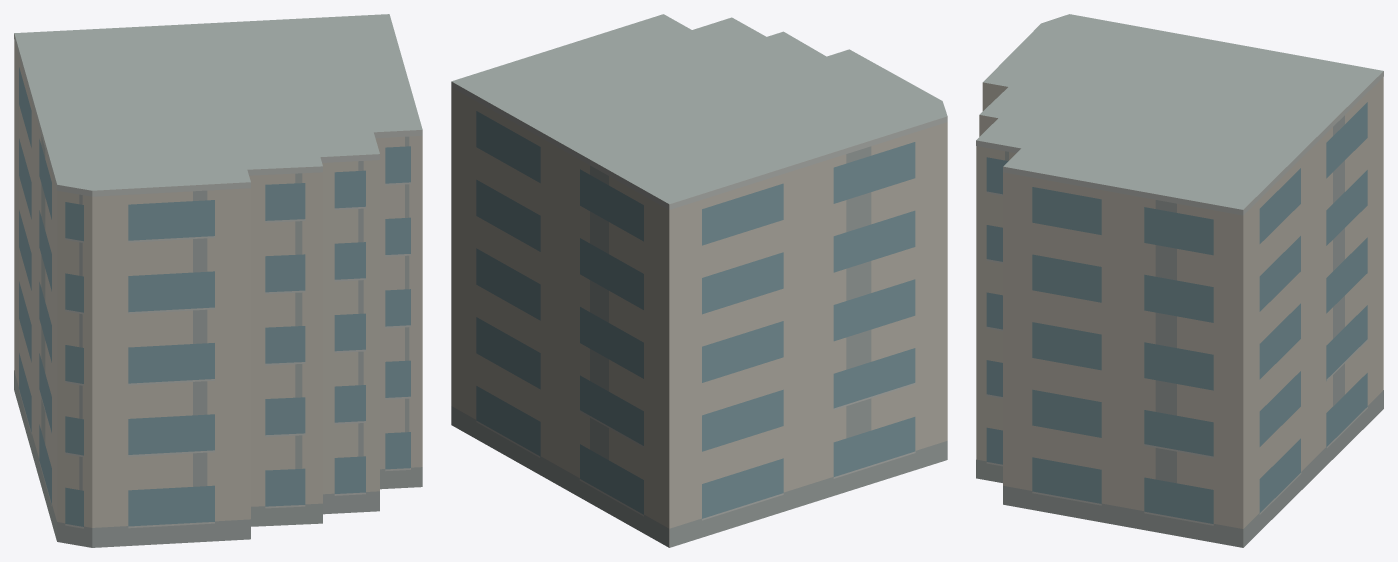
The model's file is survey-upis-32888608.glb.
The picture shows the model from 3 angles, left to right: view 1: azimuth 30°, elevation 25°; view 2: azimuth 150°, elevation 25°; view 3: azimuth 270°, elevation 25°; orthographic projection. The views are drawn at different scales.
Parts seen in each view (by area): view 1: survey-upis-32888608.tmp; view 2: survey-upis-32888608.tmp; view 3: survey-upis-32888608.tmp.
Part boxes in pixels (x1,y1,x2,y2): survey-upis-32888608.tmp: [14, 14, 422, 547]; survey-upis-32888608.tmp: [451, 14, 947, 547]; survey-upis-32888608.tmp: [976, 14, 1383, 547].
Size of the model in its own units: 18.03 by 14.5 by 15.86.
